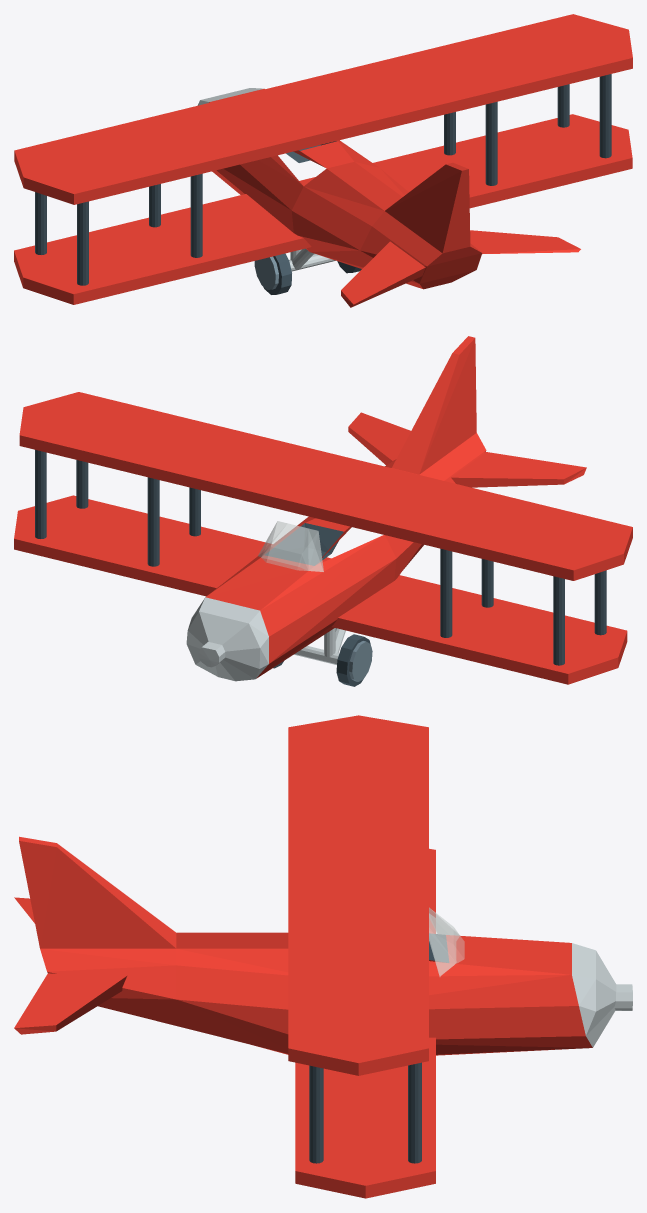
3 views of the same model, one above another, from view 1: azimuth 30°, elevation 25°; view 2: azimuth 150°, elevation 25°; view 3: azimuth 270°, elevation 25° (orthographic). The views are drawn at different scales.
Visible parts, largest first — view 1: Node; view 2: Node; view 3: Node.
Part boxes in pixels (x1,y1,x2,y2): Node: (14, 14, 632, 307); Node: (14, 336, 632, 686); Node: (14, 715, 632, 1198).
Size of the model in its own units: 1.17 by 0.4196 by 0.8799.
